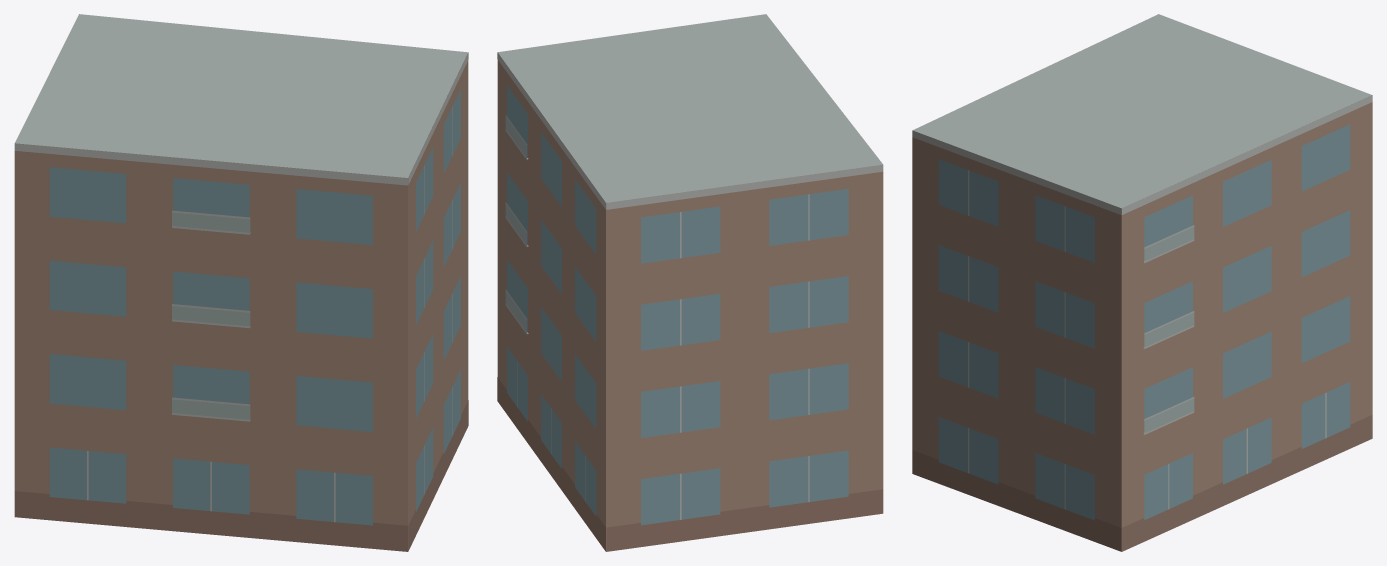
File: survey-upis-32692873.glb
3 renders of one model, left to right at view 1: azimuth 30°, elevation 25°; view 2: azimuth 150°, elevation 25°; view 3: azimuth 270°, elevation 25°, orthographic. The views are drawn at different scales.
Parts seen in each view (by area): view 1: survey-upis-32692873.tmp; view 2: survey-upis-32692873.tmp; view 3: survey-upis-32692873.tmp.
Part boxes in pixels (left/top/right/bottom): survey-upis-32692873.tmp: left=14, top=14, right=468, bottom=551; survey-upis-32692873.tmp: left=497, top=14, right=883, bottom=551; survey-upis-32692873.tmp: left=912, top=14, right=1372, bottom=551.
Size of the model in its own units: 14.82 by 12.2 by 14.82.
